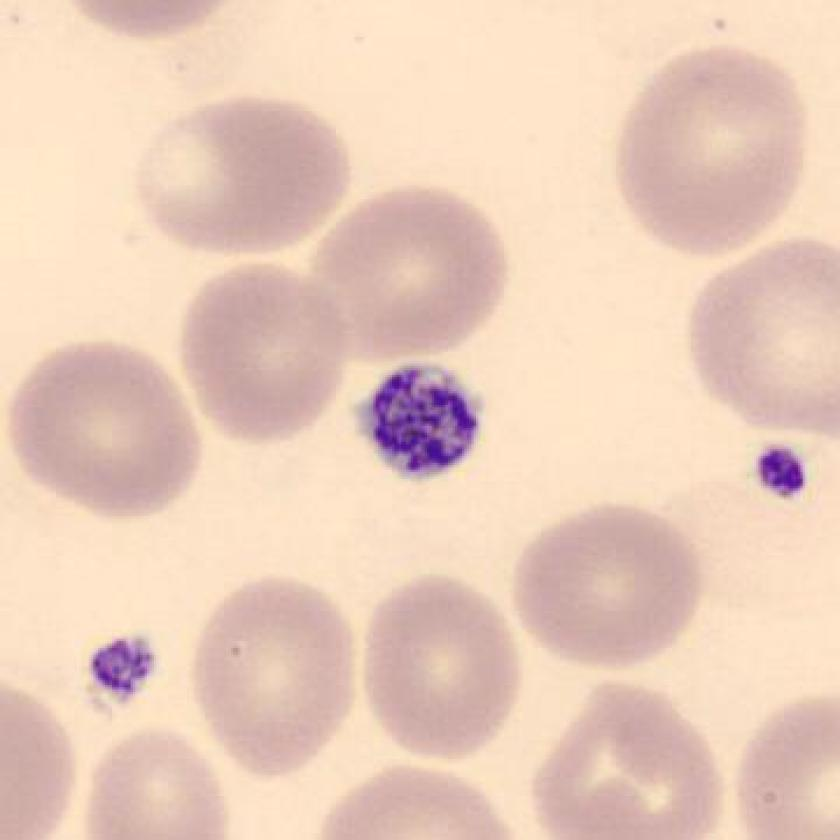platelets: (351, 360, 491, 499), (78, 630, 164, 714), (743, 429, 815, 517)
